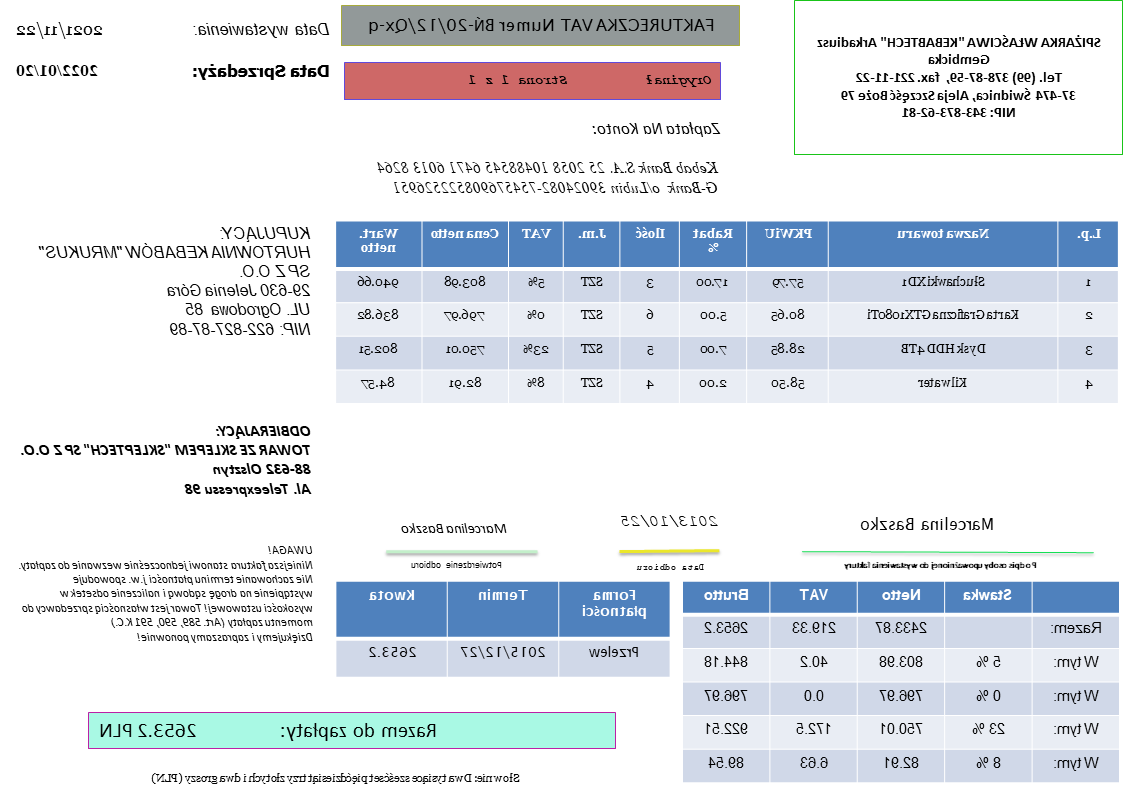Table: (333, 217, 1120, 404), (681, 581, 1121, 784), (335, 580, 672, 678)
TextBox: (36, 222, 315, 339), (18, 542, 316, 646), (816, 30, 1105, 121), (18, 420, 315, 499), (375, 156, 720, 197), (366, 14, 719, 38), (100, 718, 439, 742), (149, 768, 523, 787), (464, 70, 715, 91), (188, 60, 332, 84), (192, 18, 333, 41), (588, 117, 723, 139), (842, 559, 1040, 573), (860, 515, 996, 533), (13, 19, 108, 41), (399, 520, 509, 537), (617, 512, 721, 529), (12, 61, 102, 80), (409, 558, 504, 571), (635, 559, 706, 573)
